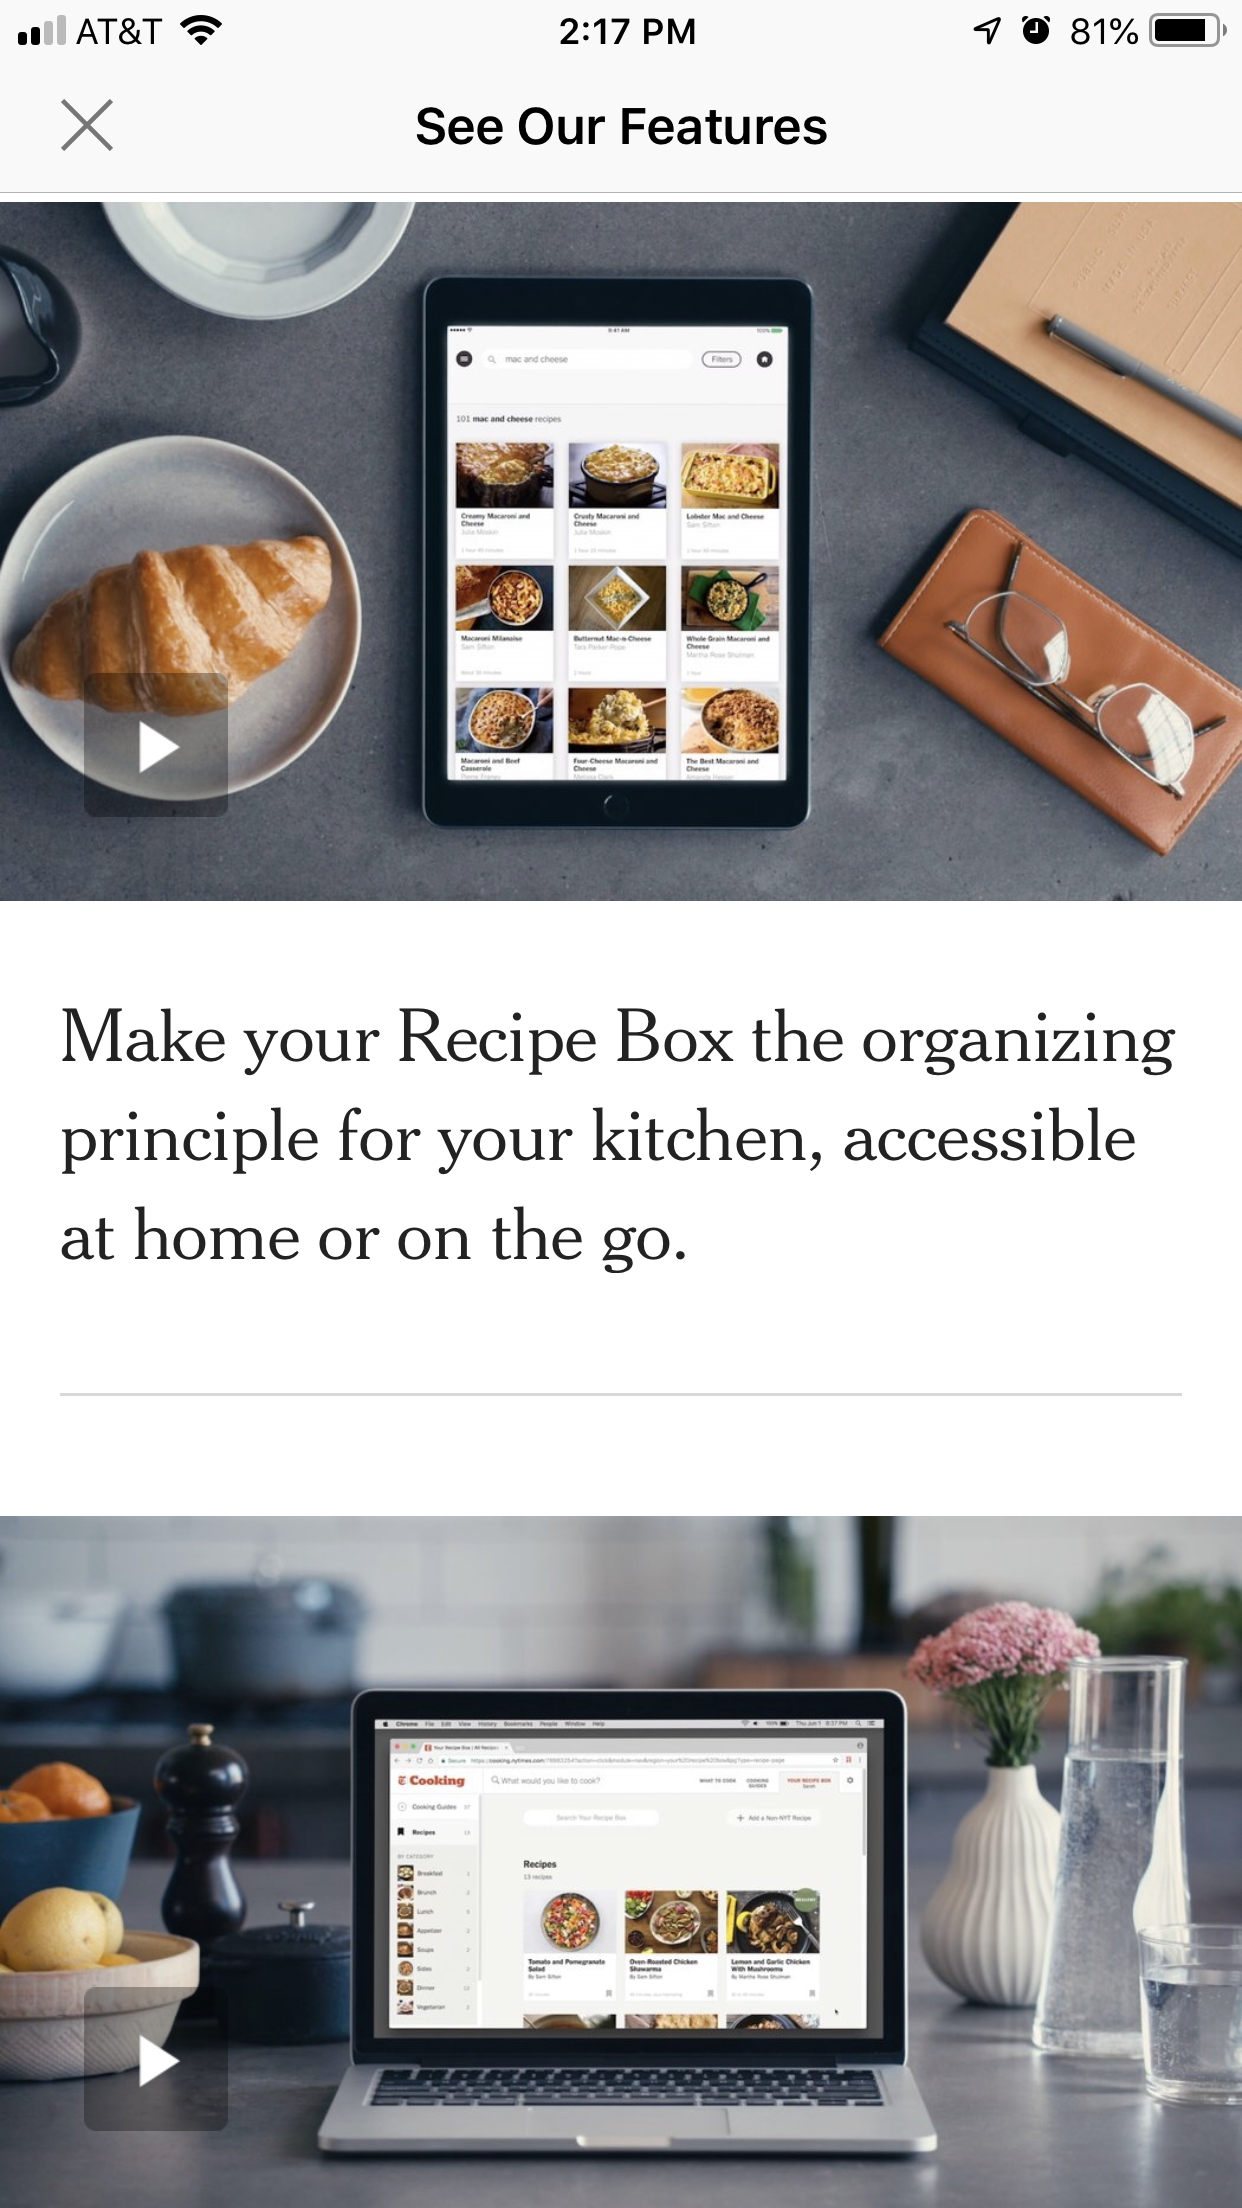Icon: (61, 99, 115, 153), (140, 719, 182, 775), (140, 2034, 182, 2090)
Image: (2, 203, 1242, 902), (2, 1516, 1242, 2208)
Text: (61, 1007, 1175, 1275), (416, 108, 828, 147)
UpperTaskBar: (2, 2, 1242, 49)
